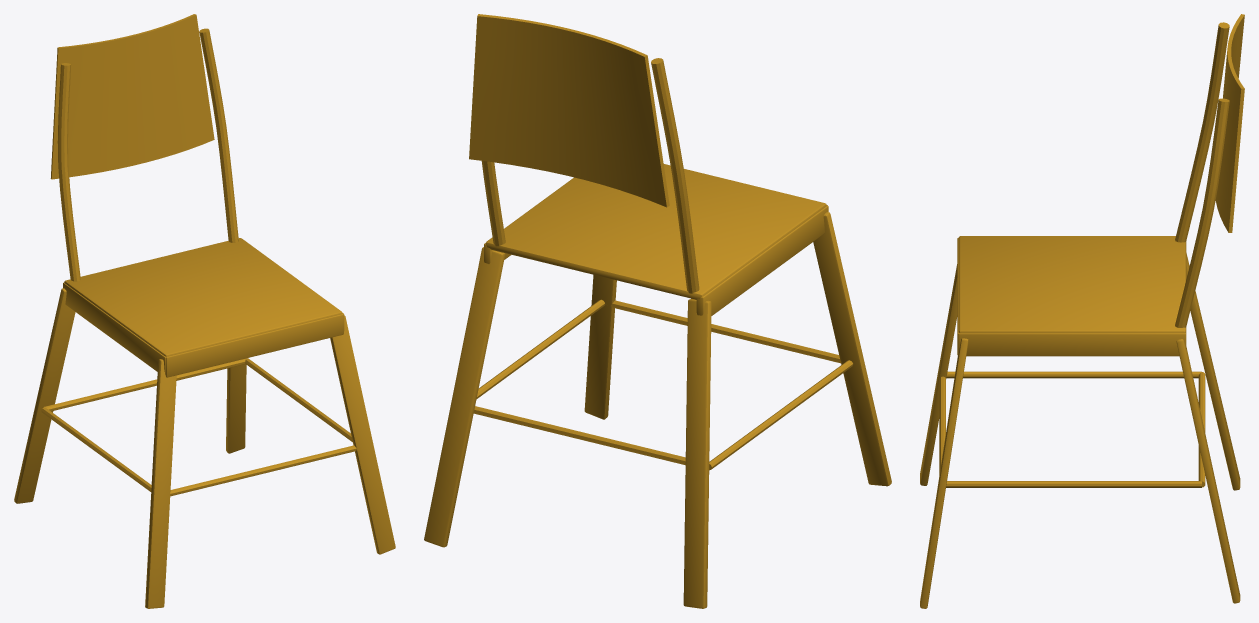
Rendered from metal_mustard.glb.
3 renders of one model, left to right at view 1: azimuth 30°, elevation 25°; view 2: azimuth 150°, elevation 25°; view 3: azimuth 270°, elevation 25°, orthographic. The views are drawn at different scales.
Visible parts, largest first — view 1: metal_mustard; view 2: metal_mustard; view 3: metal_mustard.
Boxes of the visible parts, x1,y1,x2,y2 form: metal_mustard: (14,14,395,608); metal_mustard: (424,14,891,608); metal_mustard: (920,14,1244,608).
Size of the model in its own units: 0.5039 by 0.8607 by 0.5136.
